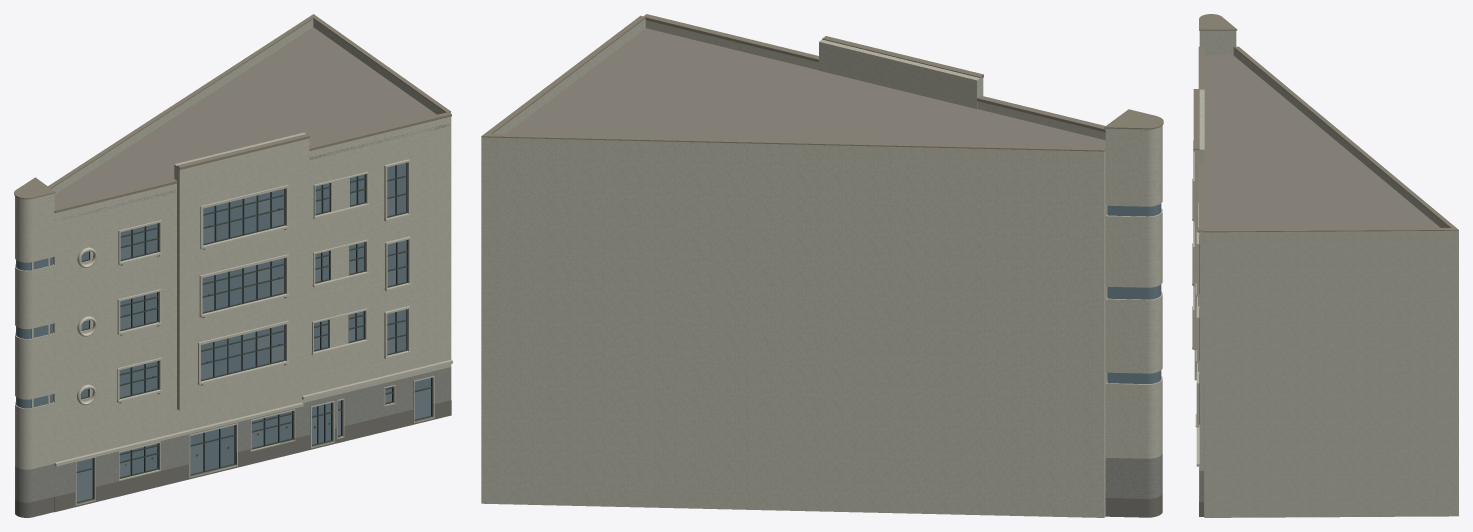
File: xuhui-capetown-apartments-wukang-road-wedge-web.glb
3 renders of one model, left to right at view 1: azimuth 30°, elevation 25°; view 2: azimuth 150°, elevation 25°; view 3: azimuth 270°, elevation 25°, orthographic. The views are drawn at different scales.
Visible parts, largest first — view 1: 开普敦公寓; view 2: 开普敦公寓; view 3: 开普敦公寓.
Part boxes in pixels (x1=…): 开普敦公寓: x1=14, y1=14, x2=452, y2=517; 开普敦公寓: x1=481, y1=14, x2=1163, y2=517; 开普敦公寓: x1=1192, y1=14, x2=1458, y2=517.
Size of the model in its own units: 21.74 by 15.41 by 12.26.
9 materials, 2 textured.
